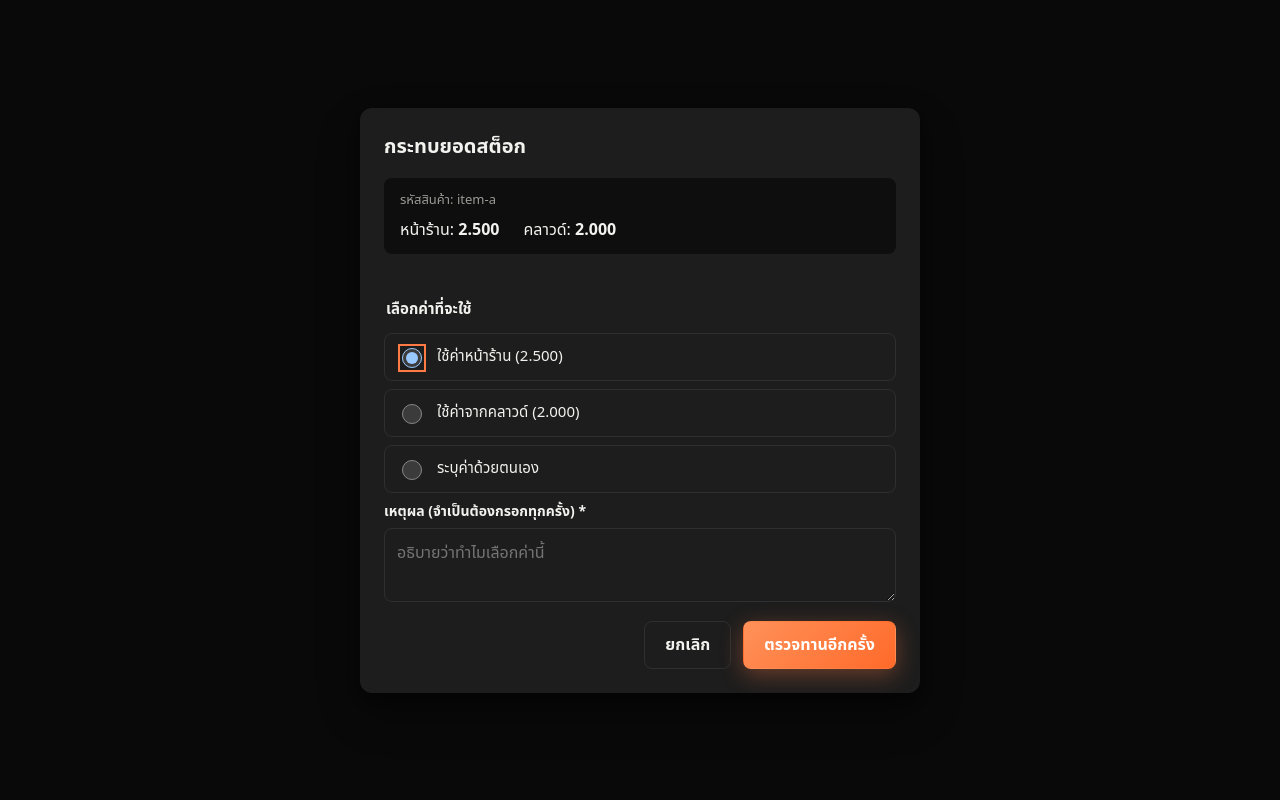
Test: ReconciliationOverlay › requires a reason before the confirm step
# Advance without a reason.
Click the button "ตรวจทานอีกครั้ง" at (820, 644), box [743,620,896,668]
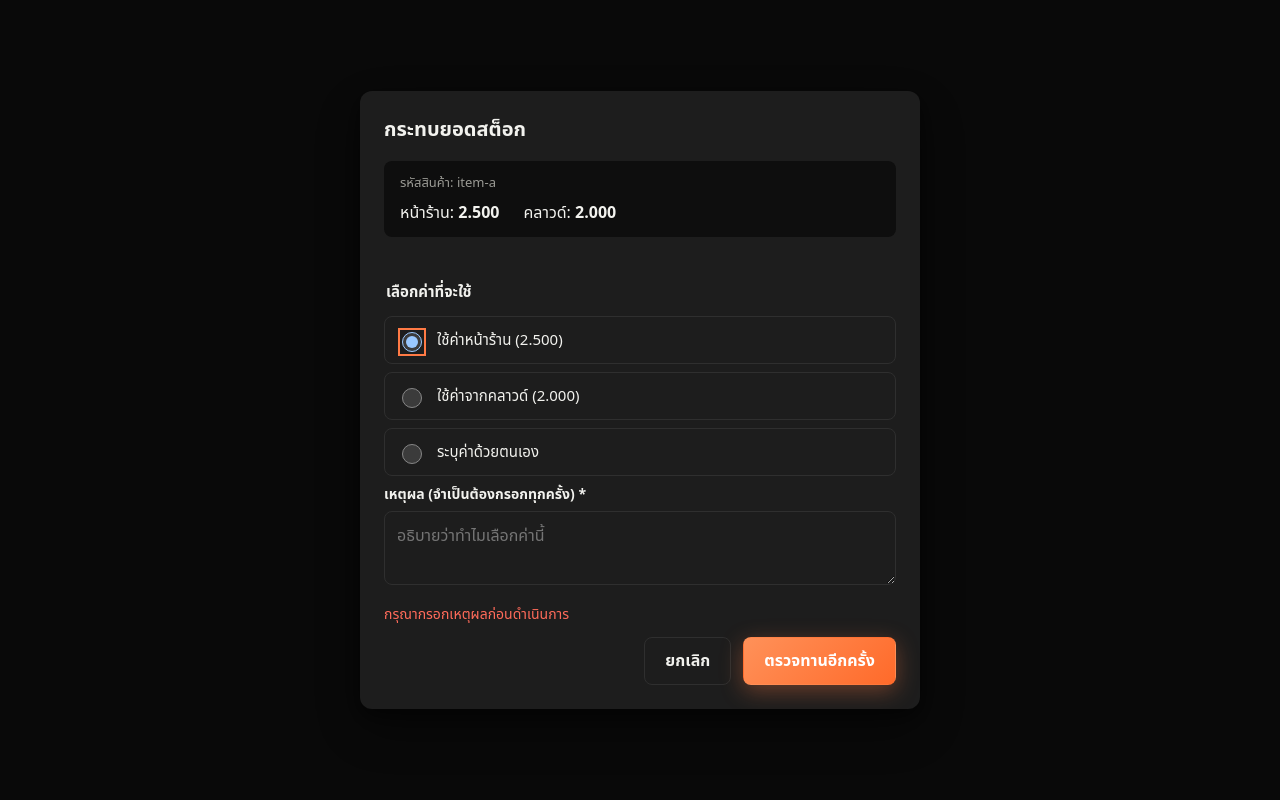
Result: the message "กรุณากรอกเหตุผลก่อนดำเนินการ" is shown at [384,604,569,625]
